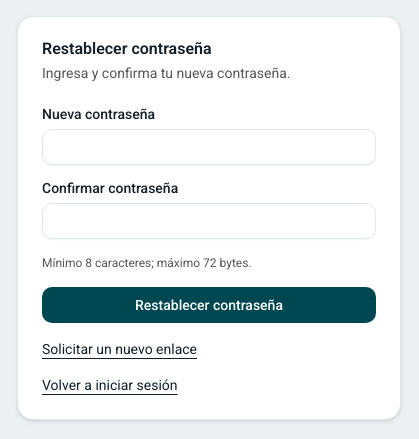
Scenario: reads the bearer fragment locally, removes it from history, and posts only on submission
Type "new-password" into the password field labelled "Nueva contraseña".
click(209, 147); type("new-password")  # box [42,129,376,165]
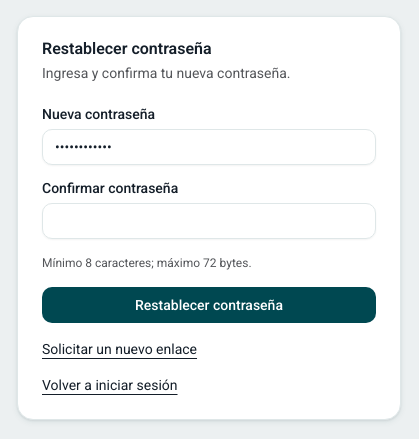
Type "new-password" into the password field labelled "Confirmar contraseña".
click(209, 221); type("new-password")  # box [42,203,376,239]
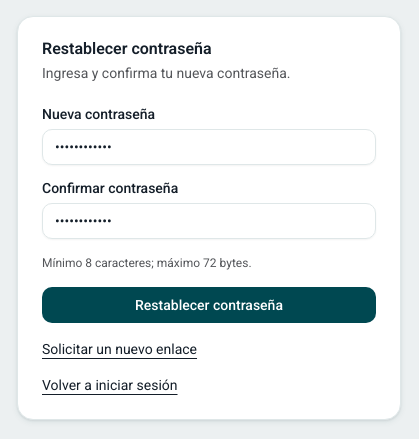
Click the button "Restablecer contraseña".
click(209, 305)  # box [42,287,376,323]
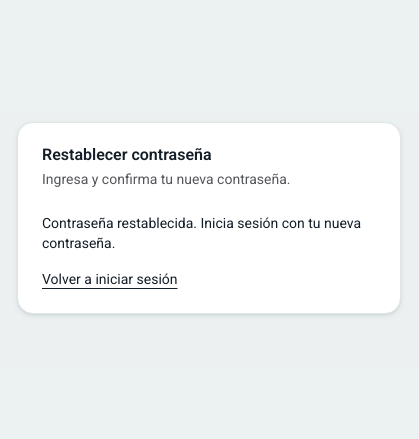
Check: the text "Contraseña restablecida" is shown, box [42,215,361,251]
